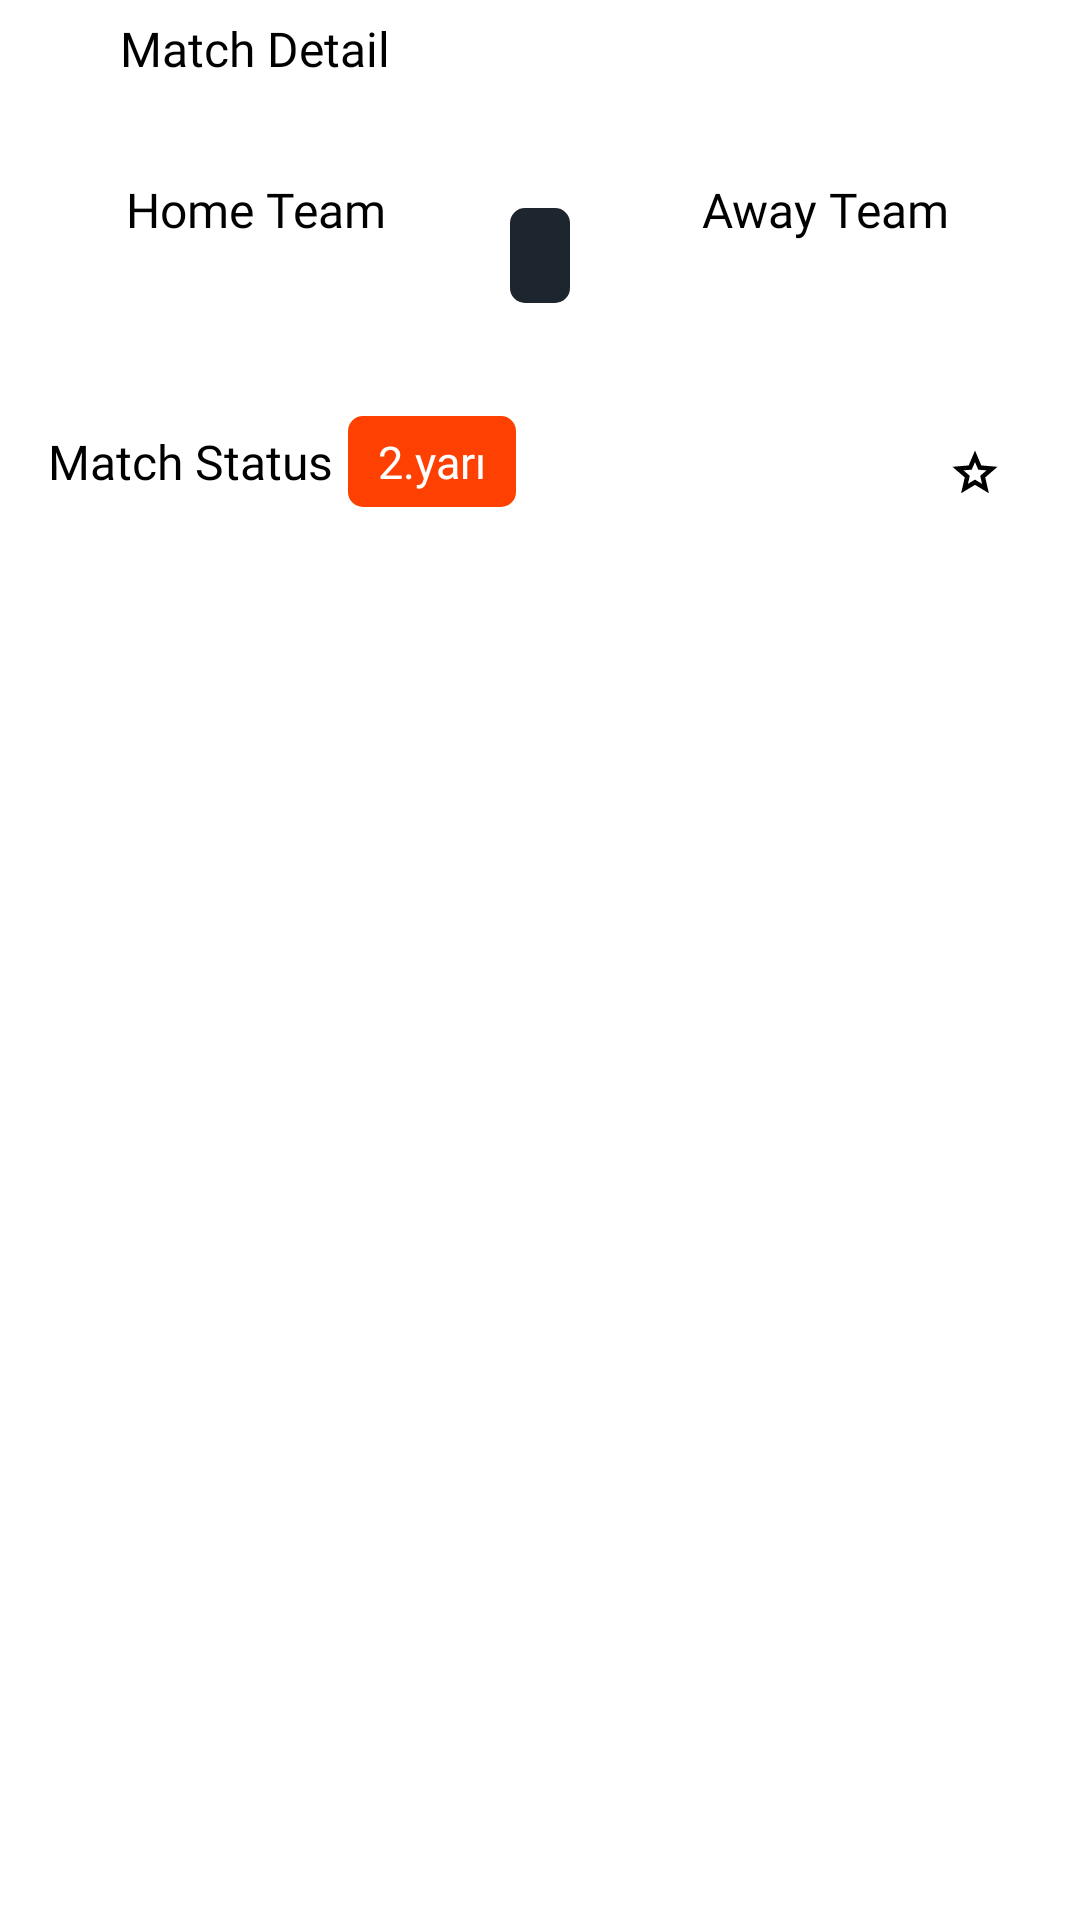

Screen size 1080x1920. Icon name, then its box in pixels as (x1, y1, x2, y2):
star: (952, 451, 998, 493)
